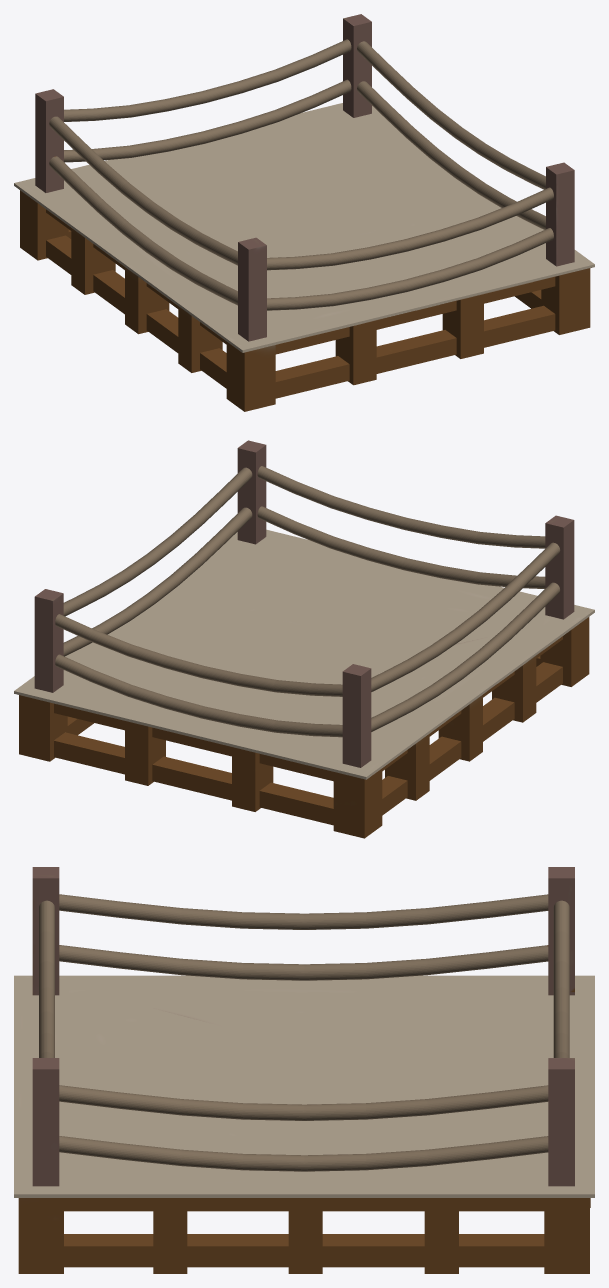
The model's file is BoxingRing.fbx.
The picture shows the model from 3 angles, top to bottom: view 1: azimuth 30°, elevation 25°; view 2: azimuth 150°, elevation 25°; view 3: azimuth 270°, elevation 25°; orthographic projection. The views are drawn at different scales.
Parts seen in each view (by area): view 1: Ground; view 2: Ground; view 3: Ground.
Part boxes in pixels (<box>): Ground: <box>14,14,594,411</box>; Ground: <box>14,440,594,838</box>; Ground: <box>14,867,594,1273</box>.
Bounding box in the file's own units: 2277 × 962 × 2556.
